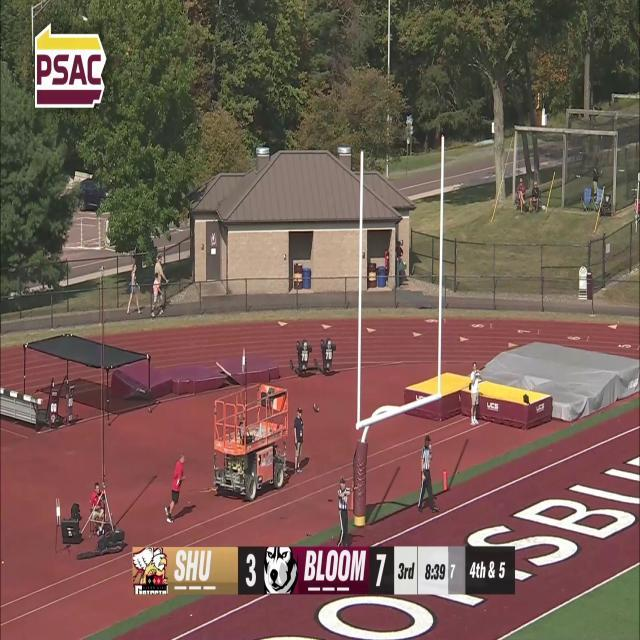football: (312, 402, 320, 412)
